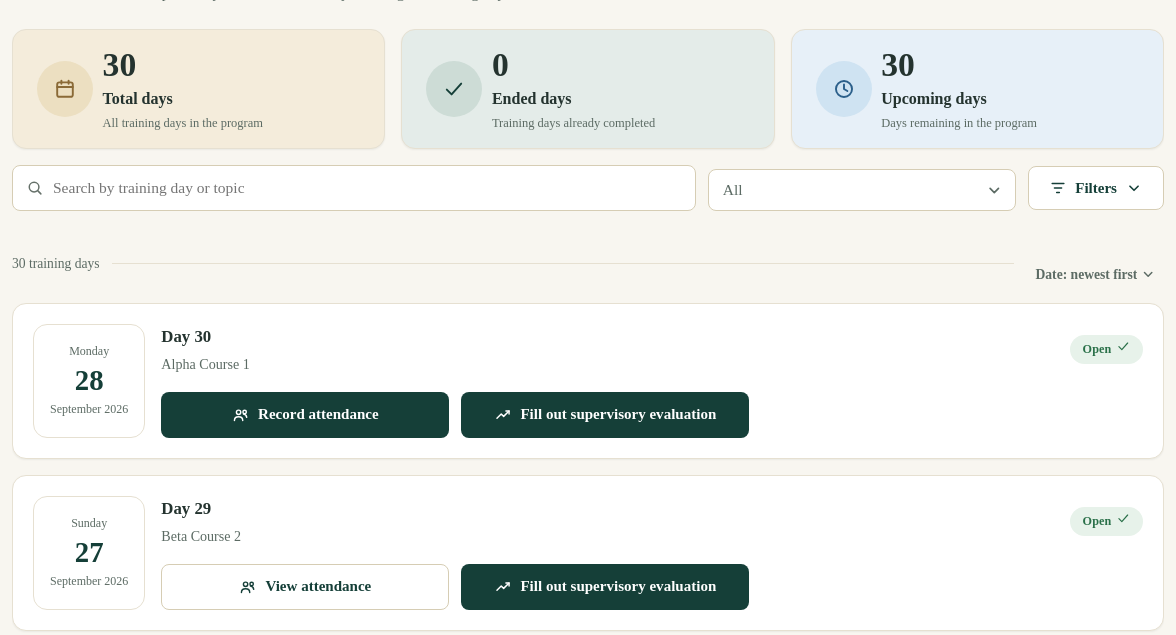
Test: flat list page (supervisor days) › paginates client-side and keeps the filter across page changes and size changes
Type "alpha" into the search field named "Search training days". click: (354, 188)
box: [12,166,696,211]
(page scrolled)
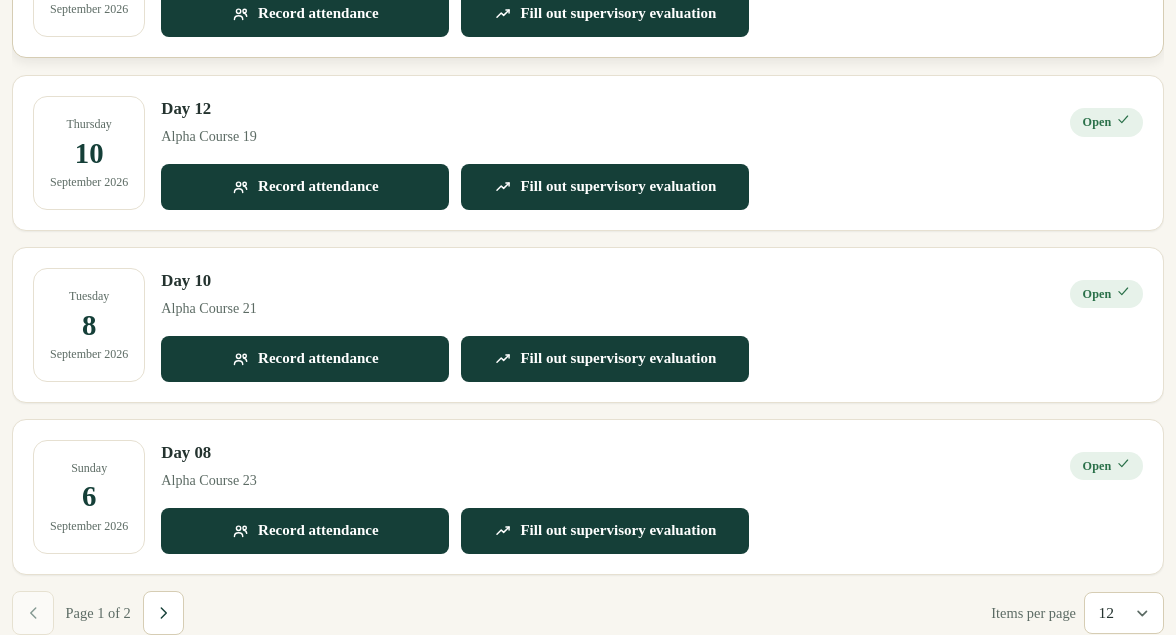
Expected: the text "Page 1 of 2" is shown, [66,602,131,624]
Click the button named "Next page". click: (164, 613)
box: [143,591,184,634]
(page scrolled)
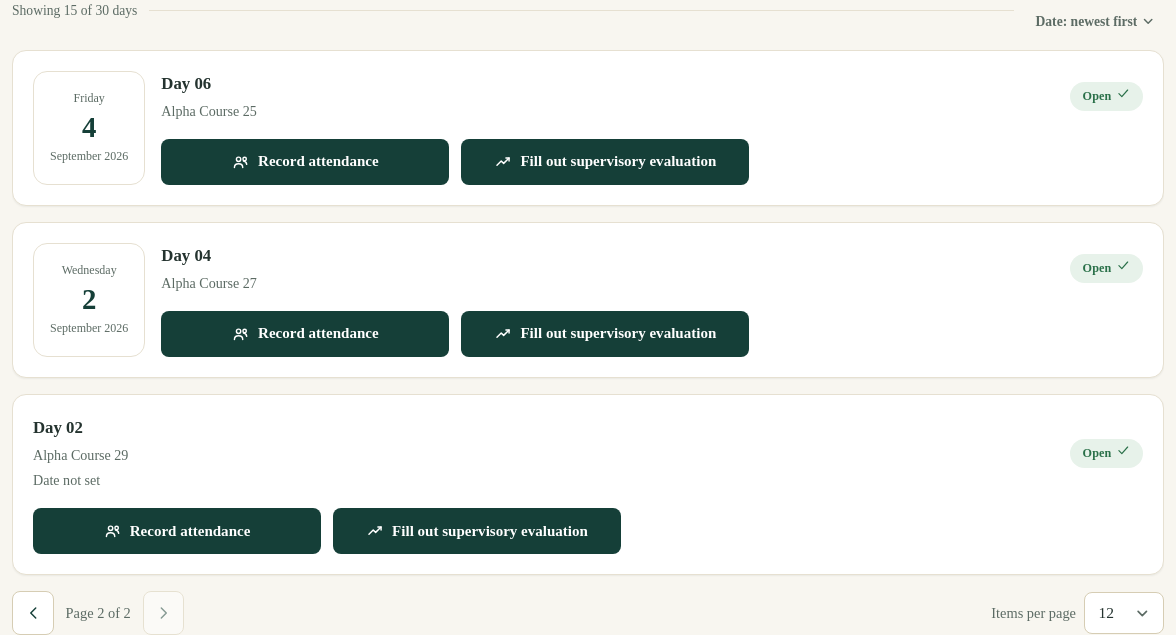
Expected: the text "Page 2 of 2" is shown, [66,602,131,624]
Click the dropdown named "Items per page". click: (1124, 613)
box: [1084,592,1164,634]
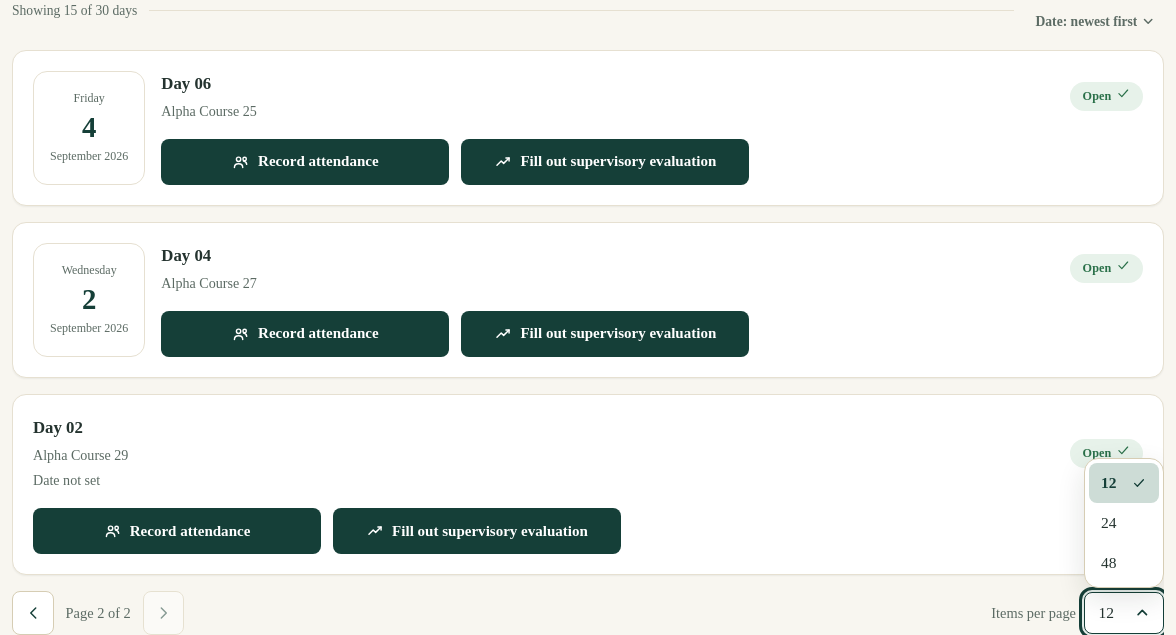
Click the option "24". click: (1109, 523)
box: [1101,514,1116,531]
(page scrolled)
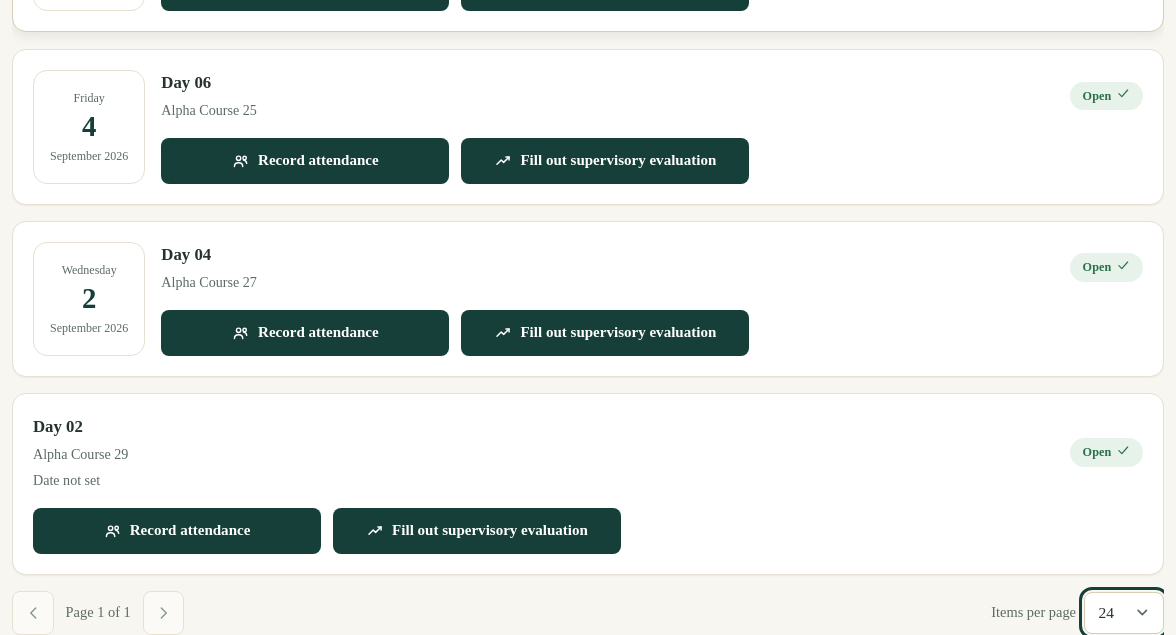
Expected: the text "Page 1 of 1" is shown, [66,602,131,624]
